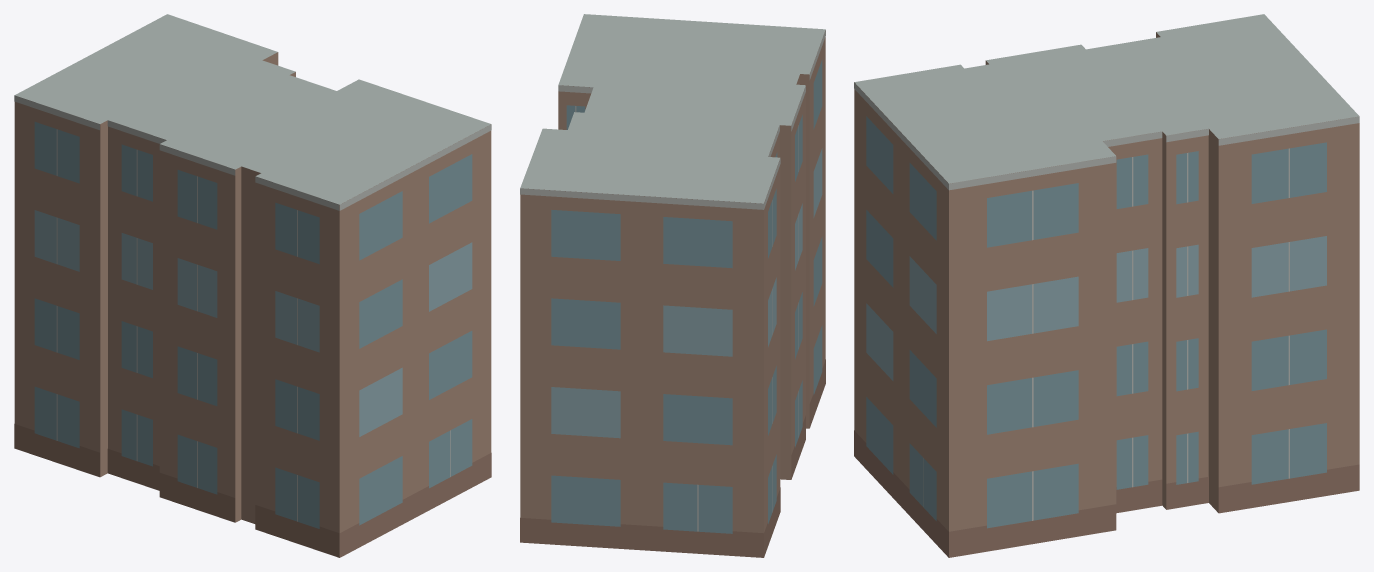
File: survey-upis-32986929.glb
3 views of the same model, side by side, from view 1: azimuth 30°, elevation 25°; view 2: azimuth 150°, elevation 25°; view 3: azimuth 270°, elevation 25° (orthographic). The views are drawn at different scales.
Visible parts, largest first — view 1: survey-upis-32986929.tmp; view 2: survey-upis-32986929.tmp; view 3: survey-upis-32986929.tmp.
Part boxes in pixels (<box>): survey-upis-32986929.tmp: <box>14,14,491,557</box>; survey-upis-32986929.tmp: <box>520,14,825,557</box>; survey-upis-32986929.tmp: <box>854,14,1359,557</box>.
Bounding box in the file's own units: 13.38 × 13.75 × 16.84.
